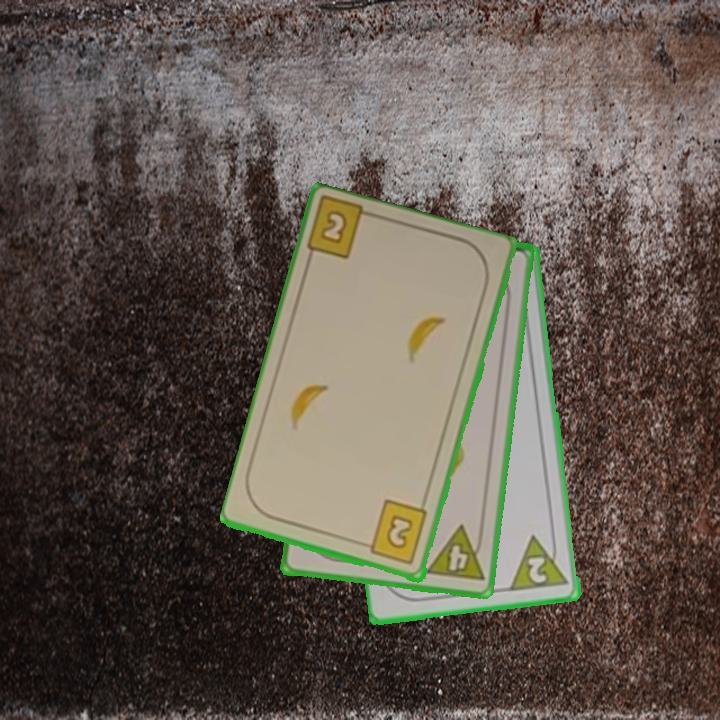2b: (359, 497, 431, 568), (317, 206, 351, 248)
2p: (507, 530, 572, 595)
4p: (421, 522, 487, 585)
